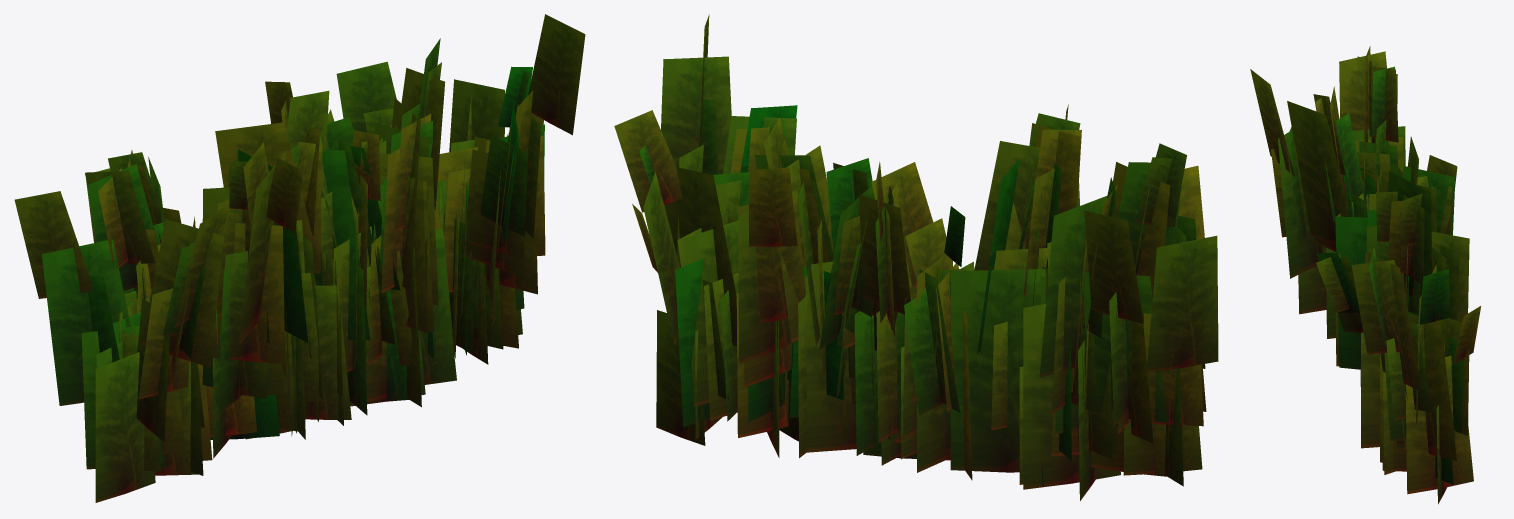
The model's file is thuja 1.glb.
3 renders of one model, left to right at view 1: azimuth 30°, elevation 25°; view 2: azimuth 150°, elevation 25°; view 3: azimuth 270°, elevation 25°, orthographic. The views are drawn at different scales.
Visible parts, largest first — view 1: thuja 1; view 2: thuja 1; view 3: thuja 1.
Part boxes in pixels (x1,y1,x2,y2): thuja 1: (14, 14, 585, 502); thuja 1: (614, 14, 1218, 500); thuja 1: (1250, 46, 1480, 504).
Size of the model in its own units: 2.02 by 1.27 by 0.9346.
Materials: 1 (1 with a texture image).
